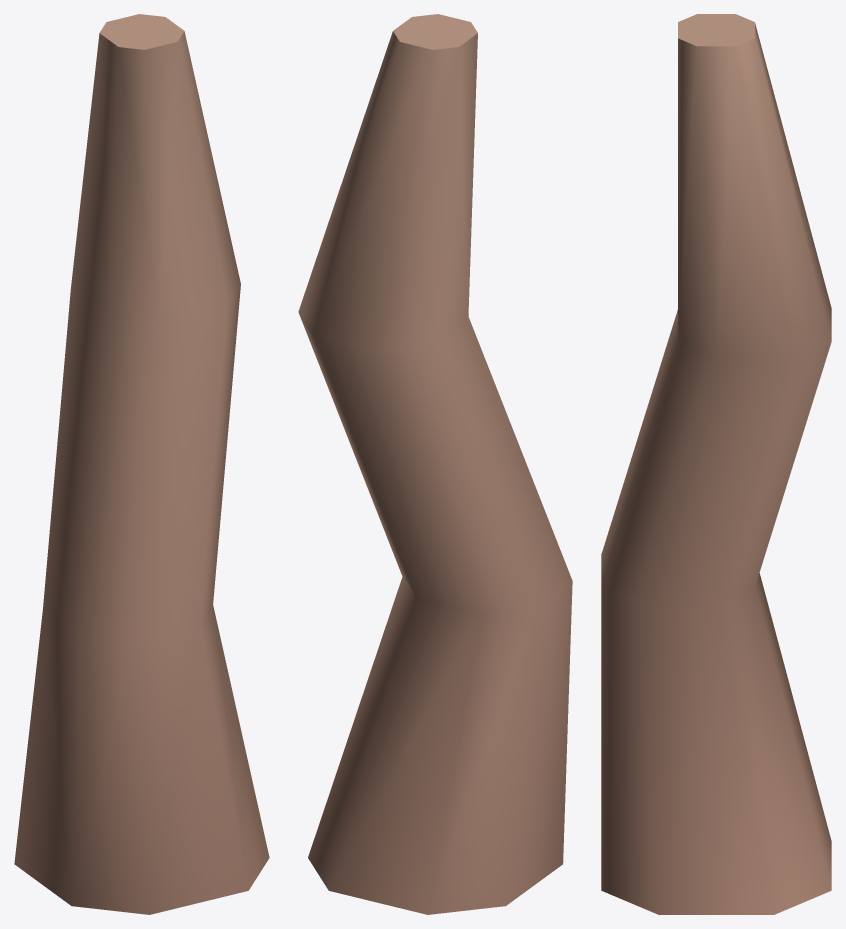
Rendered from twig-a.glb.
3 renders of one model, left to right at view 1: azimuth 30°, elevation 25°; view 2: azimuth 150°, elevation 25°; view 3: azimuth 270°, elevation 25°, orthographic.
Parts seen in each view (by area): view 1: twig-a; view 2: twig-a; view 3: twig-a.
Part boxes in pixels (left/top/right/bottom): twig-a: left=14, top=14, right=269, bottom=914; twig-a: left=298, top=14, right=572, bottom=914; twig-a: left=601, top=14, right=831, bottom=914.
Bounding box in the file's own units: 0.075 × 0.3 × 0.075.
